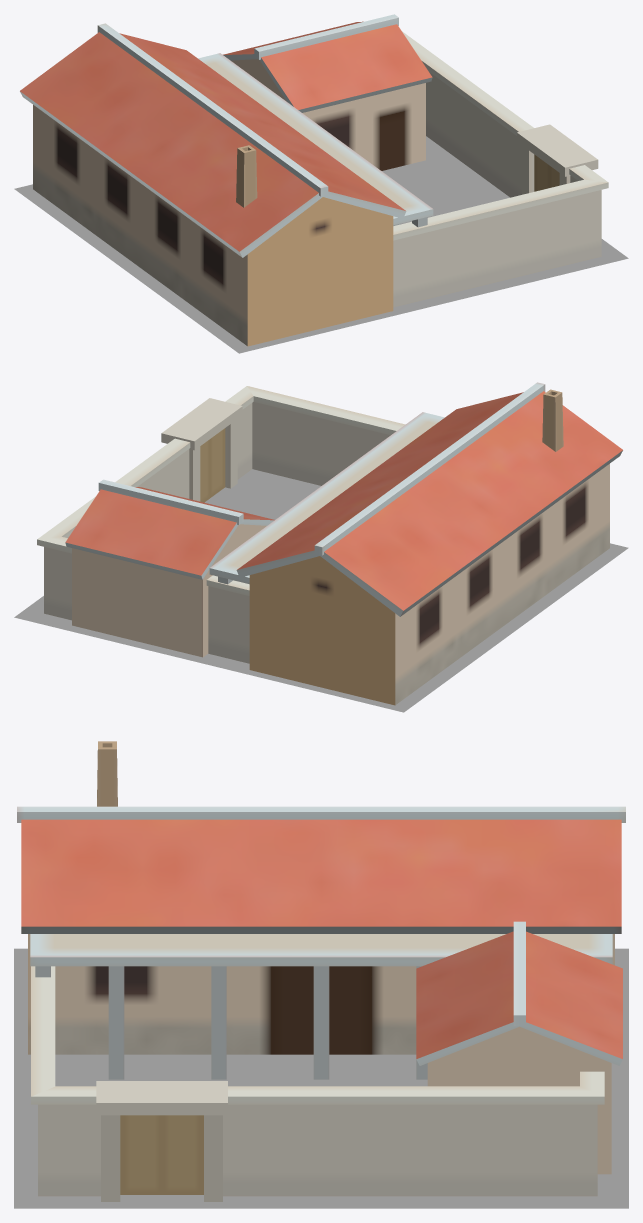
The model's file is Plain_Building_Residential_L1_04_Mod.fbx.
3 renders of one model, top to bottom at view 1: azimuth 30°, elevation 25°; view 2: azimuth 150°, elevation 25°; view 3: azimuth 270°, elevation 25°, orthographic. The views are drawn at different scales.
Parts seen in each view (by area): view 1: Plain_Building_Residential_L1_04_Mod; view 2: Plain_Building_Residential_L1_04_Mod; view 3: Plain_Building_Residential_L1_04_Mod.
Boxes of the visible parts, x1,y1,x2,y2 form: Plain_Building_Residential_L1_04_Mod: (14, 14, 628, 353); Plain_Building_Residential_L1_04_Mod: (14, 382, 628, 712); Plain_Building_Residential_L1_04_Mod: (14, 741, 628, 1208).
Size of the model in its own units: 1200 by 502 by 1200.
